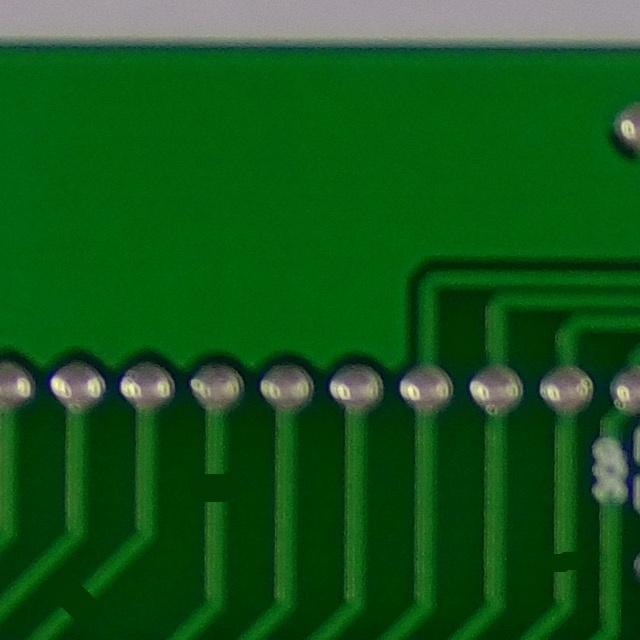open_circuit: (51, 576, 99, 628), (196, 464, 237, 515), (545, 541, 584, 586)
